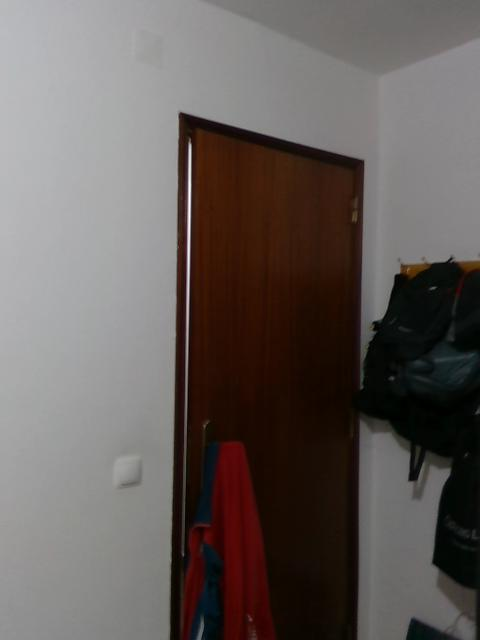door: (183, 125, 356, 640)
